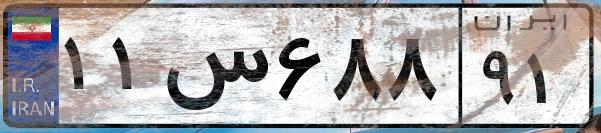1: (57, 26, 110, 100), (525, 38, 570, 115), (110, 28, 158, 98)
6: (270, 28, 330, 110)
8: (385, 28, 445, 110), (330, 28, 385, 110)
9: (475, 38, 525, 113)
س: (158, 20, 270, 120)
